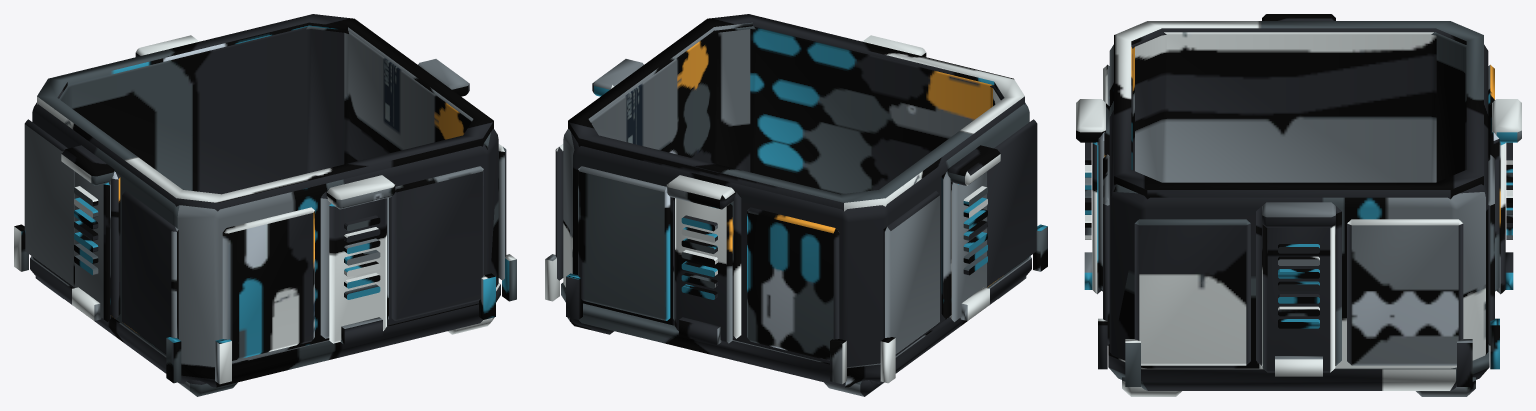
The model's file is S07_Body_LOD0.obj.
The picture shows the model from 3 angles, left to right: view 1: azimuth 30°, elevation 25°; view 2: azimuth 150°, elevation 25°; view 3: azimuth 270°, elevation 25°; orthographic projection. The views are drawn at different scales.
Visible parts, largest first — view 1: S07_Body_LOD0.001; view 2: S07_Body_LOD0.001; view 3: S07_Body_LOD0.001.
Boxes of the visible parts, box(x1,y1,x2,y2) form: S07_Body_LOD0.001: box(14, 14, 516, 396); S07_Body_LOD0.001: box(545, 14, 1047, 396); S07_Body_LOD0.001: box(1076, 14, 1521, 396).
Size of the model in its own units: 1.28 by 0.634 by 1.2.
